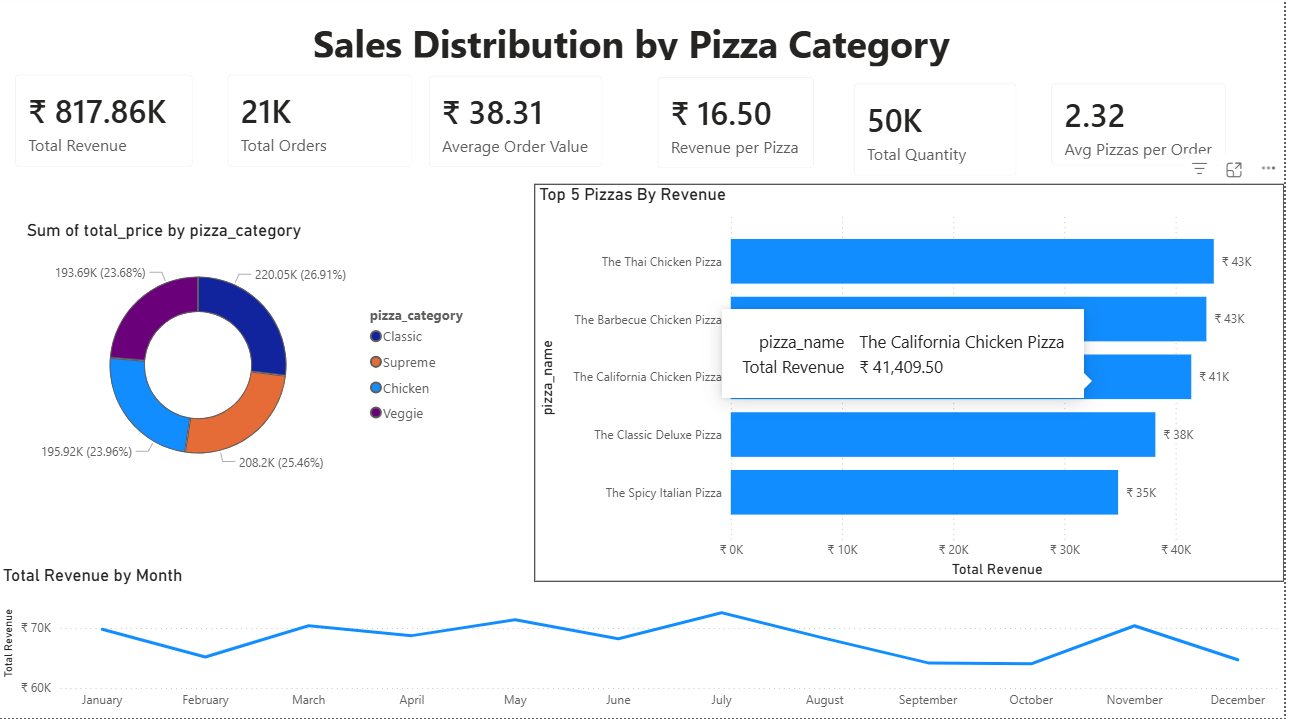

This screenshot's page, from the dashboard's own definition file:
{"tool":"powerbi","page":{"name":"Page 1","canvas":[1280,720],"ordinal":0},"visuals":[{"type":"textbox","box":[308.5,17.4,664.3,65.9],"z":0},{"type":"lineChart","fields":{"Category":["pizza_sales_excel_file.order_date.Variation.Date Hierarchy.Month","pizza_sales_excel_file.order_date.Variation.Date Hierarchy.Day"],"Y":["pizza_sales_excel_file.Total Revenue"]},"box":[0,567.3,1280,152.5],"z":1000},{"type":"donutChart","fields":{"Category":["pizza_sales_excel_file.pizza_category"],"Y":["Sum(pizza_sales_excel_file.total_price)"]},"box":[23.6,223.9,460.3,269.9],"z":3000},{"type":"cardVisual","fields":{"Data":["pizza_sales_excel_file.Total Revenue"]},"box":[0,62.2,211.5,126.9],"z":4000},{"type":"cardVisual","fields":{"Data":["pizza_sales_excel_file.Total Orders"]},"box":[211.9,62.2,218.9,126.9],"z":5000},{"type":"cardVisual","fields":{"Data":["Sum(pizza_sales_excel_file.quantity)"]},"box":[834.7,70.9,196.5,126.9],"z":6000},{"type":"cardVisual","fields":{"Data":["pizza_sales_excel_file.Average Order Value"]},"box":[411.8,63.4,207.7,125.6],"z":7000},{"type":"cardVisual","fields":{"Data":["pizza_sales_excel_file.Revenue per Pizza"]},"box":[639.4,64.7,190.3,125.6],"z":8000},{"type":"cardVisual","fields":{"Data":["pizza_sales_excel_file.Avg Pizzas per Order"]},"box":[1031.2,70.9,209,116.9],"z":9000},{"type":"clusteredBarChart","title":"Top 5 Pizzas By Revenue","fields":{"Category":["pizza_sales_excel_file.pizza_name"],"Y":["pizza_sales_excel_file.Total Revenue"]},"box":[533.7,187.8,746.4,396.8],"z":9001}]}

Visuals, with their boxes in screenshot pixels (x1, y1, x2, y2), scaled from the page's 1280x720 canvas onto the 1290x719 screenshot:
textbox: l=311, t=17, r=980, b=83
lineChart - pizza_sales_excel_file.order_date.Variation.Date Hierarchy.Month x pizza_sales_excel_file.order_date.Variation.Date Hierarchy.Day: l=0, t=567, r=1289, b=718
donutChart - pizza_sales_excel_file.pizza_category x Sum(pizza_sales_excel_file.total_price): l=24, t=224, r=488, b=493
cardVisual - pizza_sales_excel_file.Total Revenue: l=0, t=62, r=213, b=189
cardVisual - pizza_sales_excel_file.Total Orders: l=214, t=62, r=434, b=189
cardVisual - Sum(pizza_sales_excel_file.quantity): l=841, t=71, r=1039, b=198
cardVisual - pizza_sales_excel_file.Average Order Value: l=415, t=63, r=624, b=189
cardVisual - pizza_sales_excel_file.Revenue per Pizza: l=644, t=65, r=836, b=190
cardVisual - pizza_sales_excel_file.Avg Pizzas per Order: l=1039, t=71, r=1250, b=188
"Top 5 Pizzas By Revenue" clusteredBarChart: l=538, t=188, r=1289, b=584
